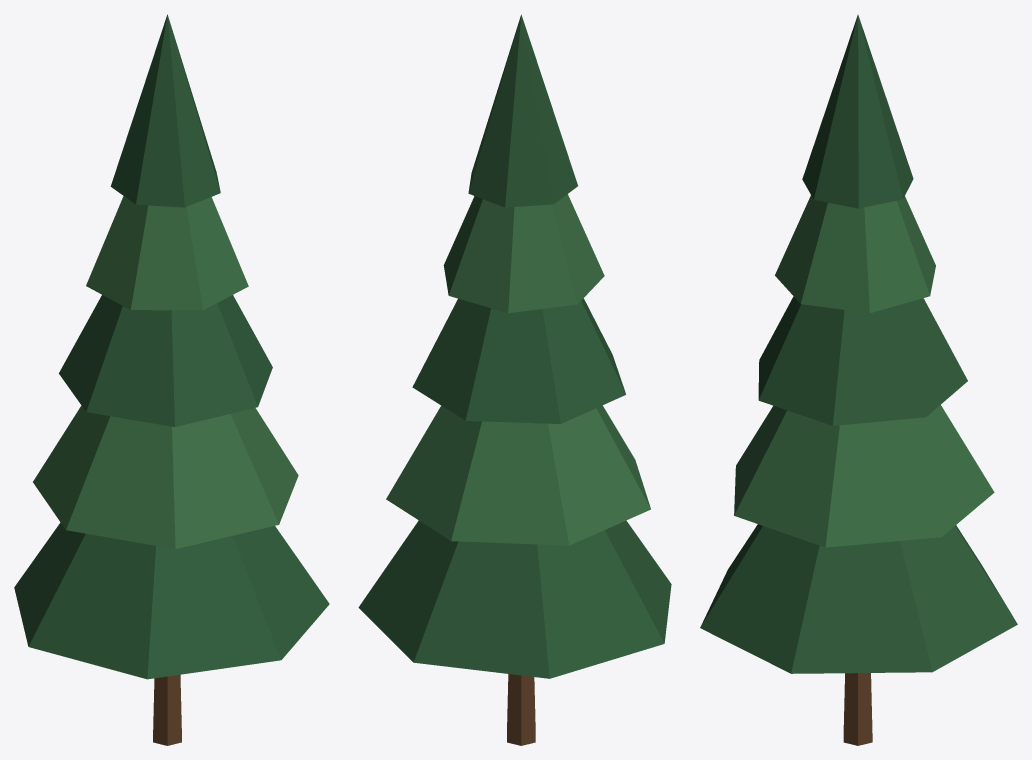
Rendered from tree_pine_b.glb.
3 renders of one model, left to right at view 1: azimuth 30°, elevation 25°; view 2: azimuth 150°, elevation 25°; view 3: azimuth 270°, elevation 25°, orthographic.
Parts seen in each view (by area): view 1: tree_pine_b; view 2: tree_pine_b; view 3: tree_pine_b.
Part boxes in pixels (left/top/right/bottom): tree_pine_b: left=14, top=14, right=329, bottom=745; tree_pine_b: left=358, top=14, right=671, bottom=745; tree_pine_b: left=700, top=14, right=1017, bottom=745.
Bounding box in the file's own units: 5.96 × 15.3 × 6.08.
